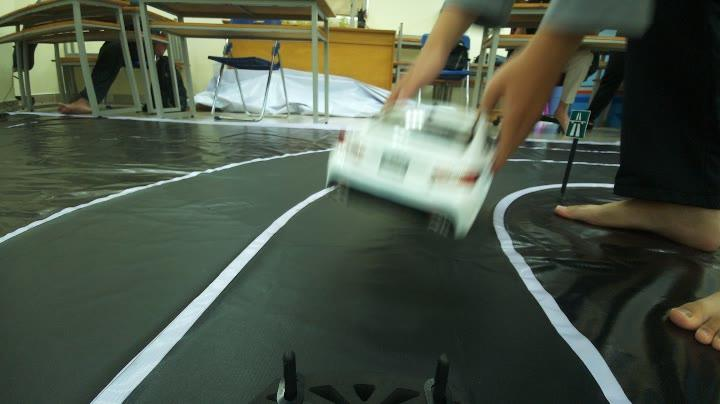highway_entry: (562, 106, 594, 140)
